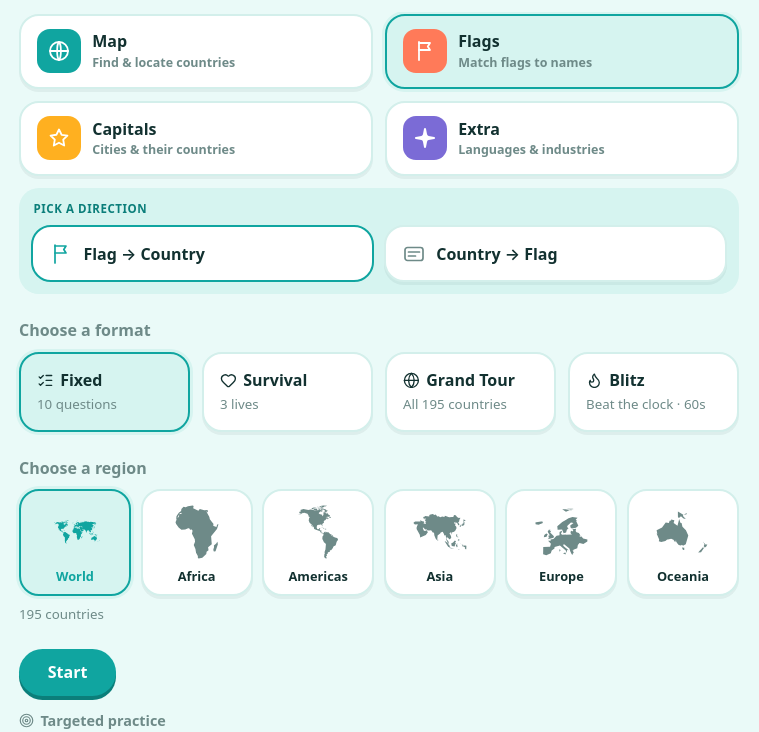
it: Play route › shows the setup screen and starts a game on demand
The image size is (759, 732).
(page scrolled)
expect the text "Flag → Country" is shown: met, box [83,242,205,266]
expect the text "Country → Flag" is shown: met, box [436,242,558,266]
Click the button "Start": [68, 672] box [19,649,116,696]
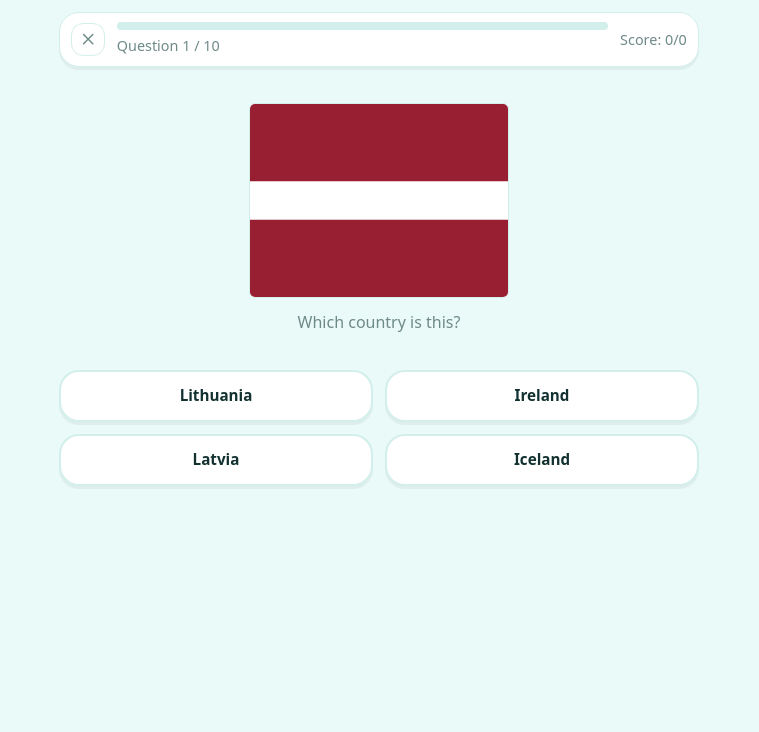
expect the text "Question 1 / 10" is shown: met, box [117,36,220,55]
